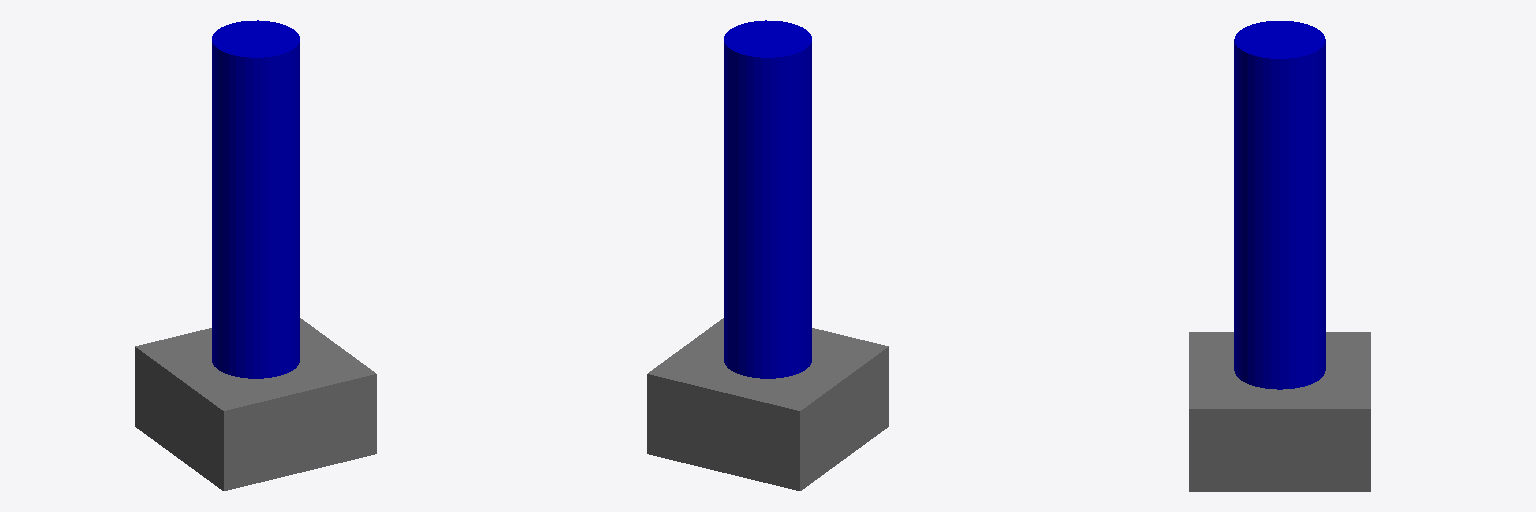
The robot description file, URDF, robot "waybionic_placeholder":
<?xml version="1.0"?>
<robot name="waybionic_placeholder">

  <!-- Base Link (A simple gray box) -->
  <link name="base_link">
    <visual>
      <geometry>
        <box size="0.2 0.2 0.1"/>
      </geometry>
      <material name="gray"><color rgba="0.5 0.5 0.5 1.0"/></material>
    </visual>
  </link>

  <!-- Arm Link (A simple blue cylinder) -->
  <link name="arm_link">
    <visual>
      <geometry>
        <cylinder radius="0.05" length="0.4"/>
      </geometry>
      <origin xyz="0 0 0.2"/>
      <material name="blue"><color rgba="0.0 0.0 0.8 1.0"/></material>
    </visual>
  </link>

  <!-- Movable Joint (Revolute joint connecting base and arm) -->
  <joint name="base_to_arm" type="revolute">
    <parent link="base_link"/>
    <child link="arm_link"/>
    <origin xyz="0 0 0.05"/>
    <axis xyz="0 1 0"/>
    <limit lower="-1.57" upper="1.57" effort="10" velocity="1.0"/>
  </joint>

</robot>

--- What the picture shows (computed from the rendered views, not written in the file) ---
3 views of the same robot in one strip: view 1: azimuth 30°, elevation 25°; view 2: azimuth 150°, elevation 25°; view 3: azimuth 270°, elevation 25° (orthographic).
Model waybionic_placeholder with 2 links and 1 joints (1 revolute), rooted at base_link, posed every joint at zero.
Visible links, largest first — view 1: arm_link, base_link; view 2: arm_link, base_link; view 3: arm_link, base_link.
Boxes of the visible links, bbox=[...] form: arm_link: bbox=[212, 20, 299, 378]; base_link: bbox=[135, 318, 376, 490]; arm_link: bbox=[724, 20, 811, 378]; base_link: bbox=[647, 318, 888, 490]; arm_link: bbox=[1234, 21, 1325, 389]; base_link: bbox=[1189, 332, 1370, 491].
Bounding box of the posed robot: 0.2 × 0.2 × 0.5 m (x, y, z).
Geometry: primitives only (box / cylinder / sphere), no mesh files.
